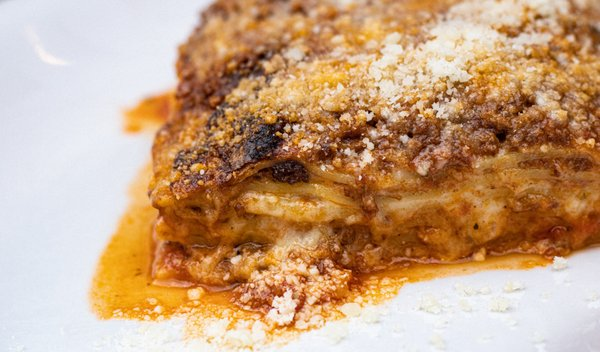sushi: (139, 2, 600, 335)
